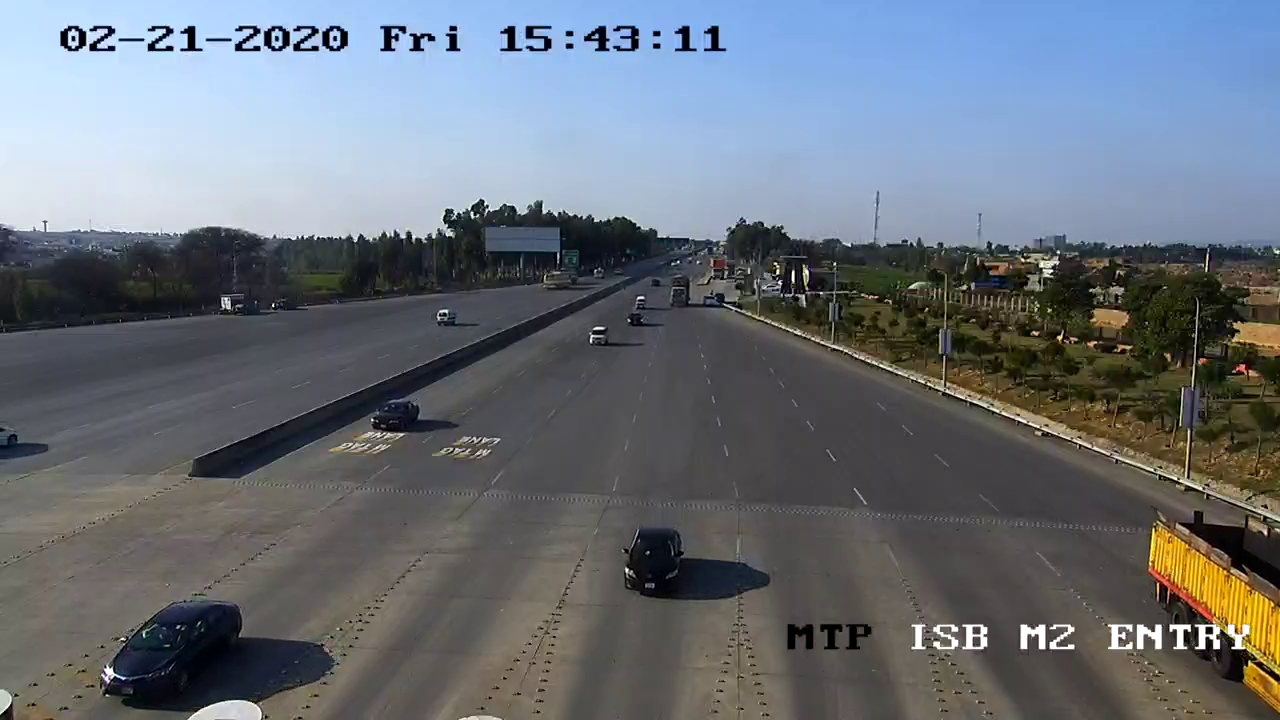f1: (83, 595, 251, 706), (614, 520, 692, 608)
